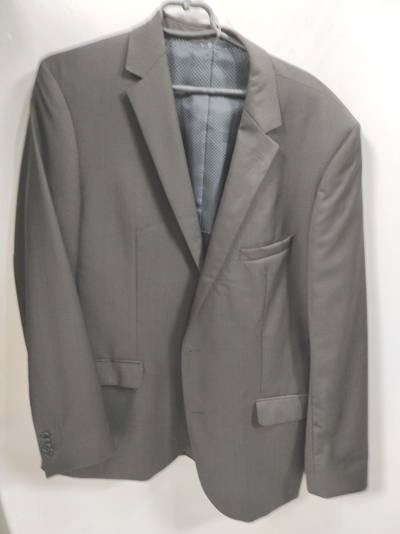Blazer: (15, 23, 387, 508)
